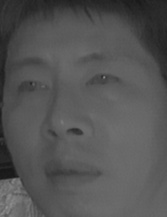eye: (84, 70, 124, 92), (13, 78, 51, 99)
mouth: (44, 155, 104, 193)
